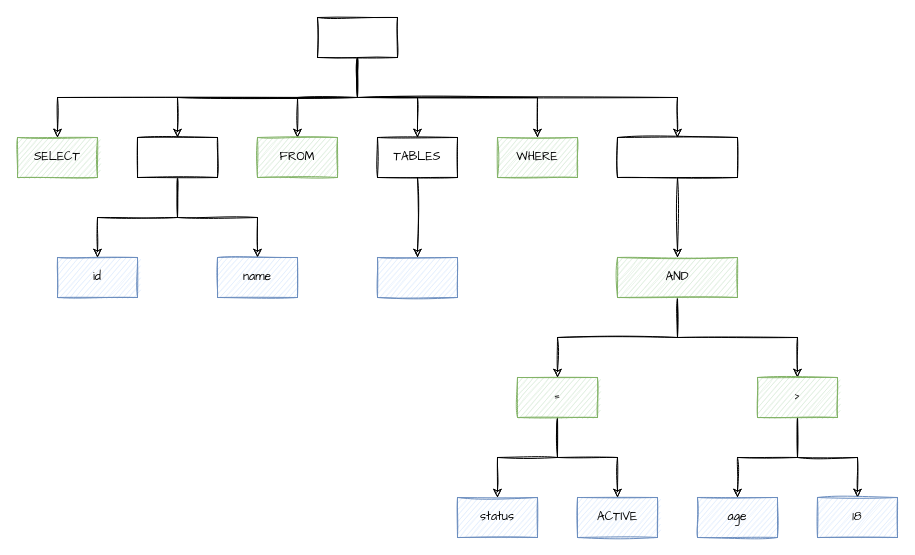
This 915x555 diagram has some shape labels left out. Here are the shapes that lost their labels. From the top down, the box of each, then its label:
(316, 16, 398, 58): Root
(136, 136, 218, 178): FIELDS
(616, 136, 738, 178): CONDITIONS
(376, 256, 458, 298): t_user
